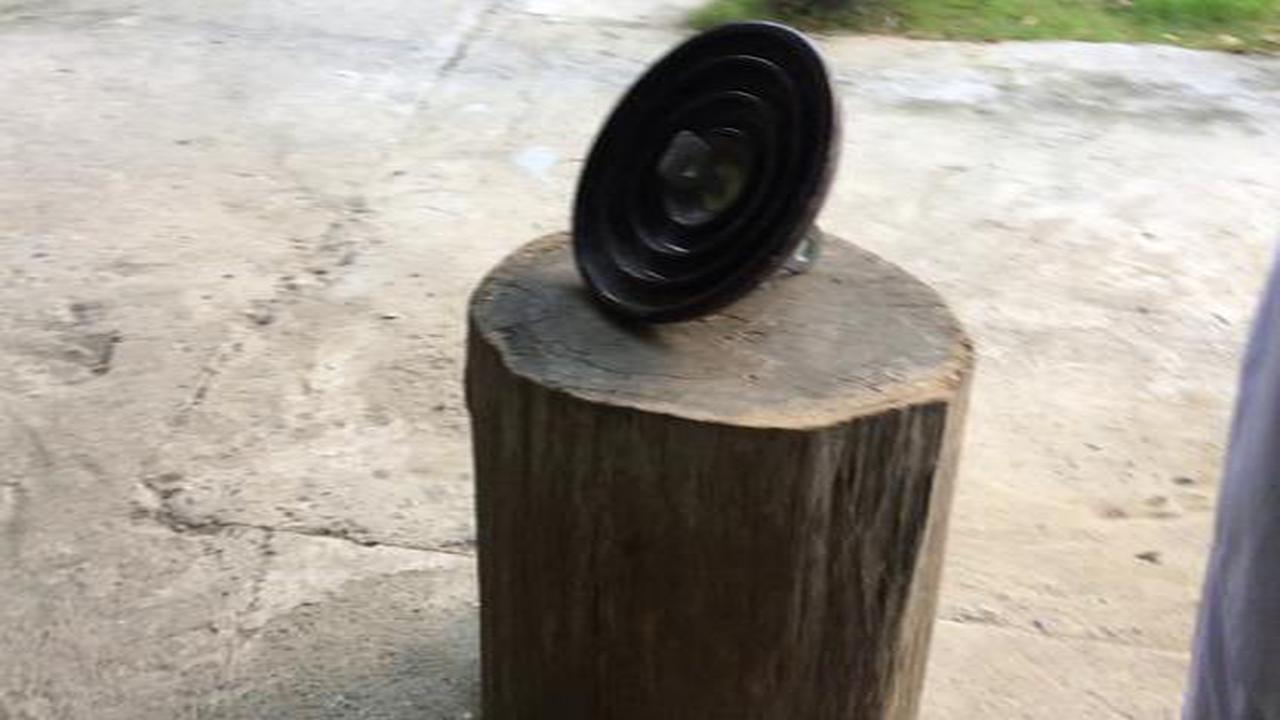insulator_disc: (565, 17, 842, 333)
